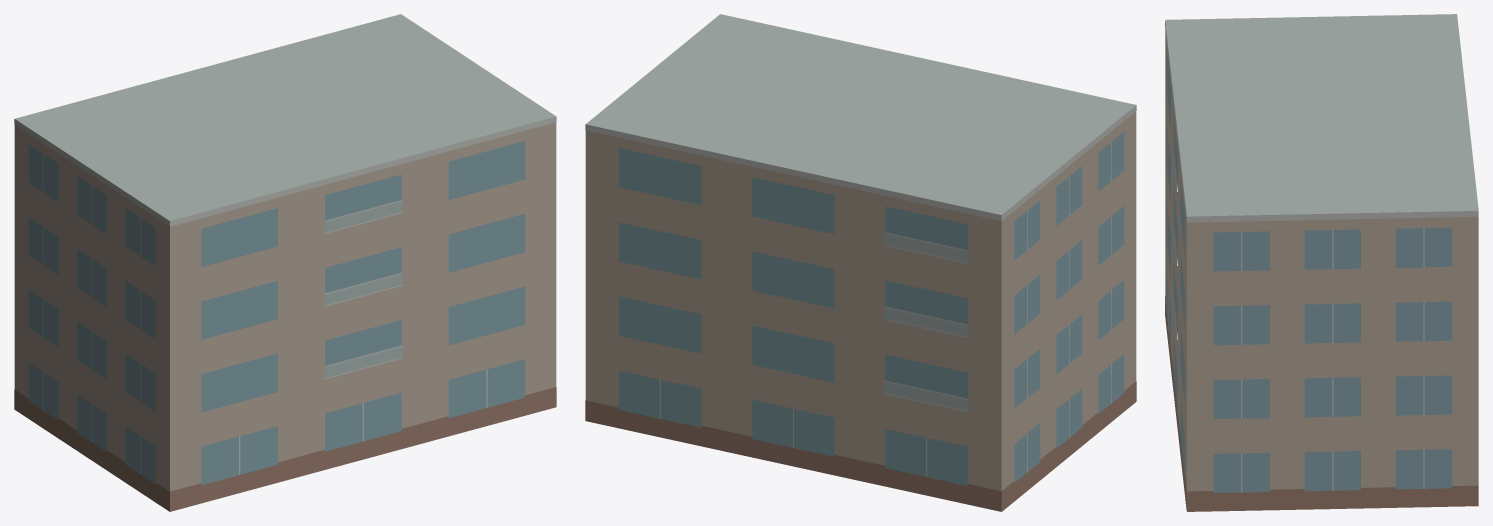
File: residential-ccea6c64-e885-490e-be7a-38170bb1b035.glb
The picture shows the model from 3 angles, left to right: view 1: azimuth 30°, elevation 25°; view 2: azimuth 150°, elevation 25°; view 3: azimuth 270°, elevation 25°; orthographic projection. The views are drawn at different scales.
Parts seen in each view (by area): view 1: residential-ccea6c64-e885-490e-be7a-38170bb1b035.tmp; view 2: residential-ccea6c64-e885-490e-be7a-38170bb1b035.tmp; view 3: residential-ccea6c64-e885-490e-be7a-38170bb1b035.tmp.
Boxes of the visible parts, bbox=[...] form: residential-ccea6c64-e885-490e-be7a-38170bb1b035.tmp: bbox=[14, 14, 556, 511]; residential-ccea6c64-e885-490e-be7a-38170bb1b035.tmp: bbox=[585, 14, 1136, 511]; residential-ccea6c64-e885-490e-be7a-38170bb1b035.tmp: bbox=[1165, 14, 1478, 511].
Bounding box in the file's own units: 17.96 × 12.2 × 11.76.
